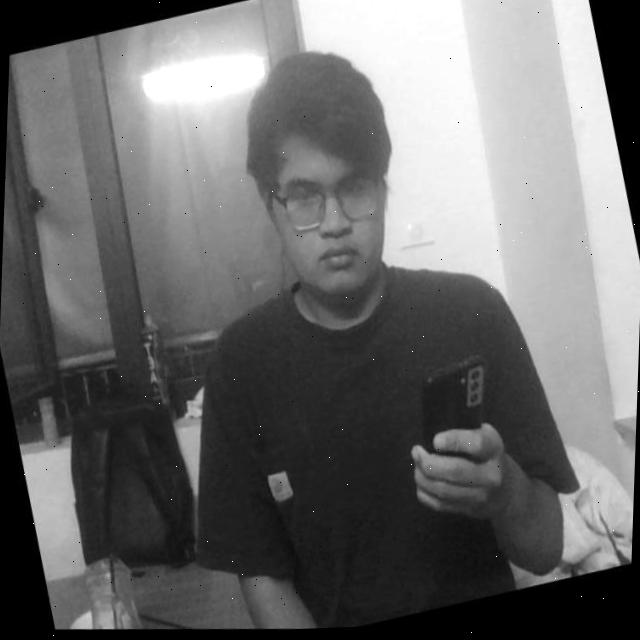phone: (389, 332, 532, 523)
